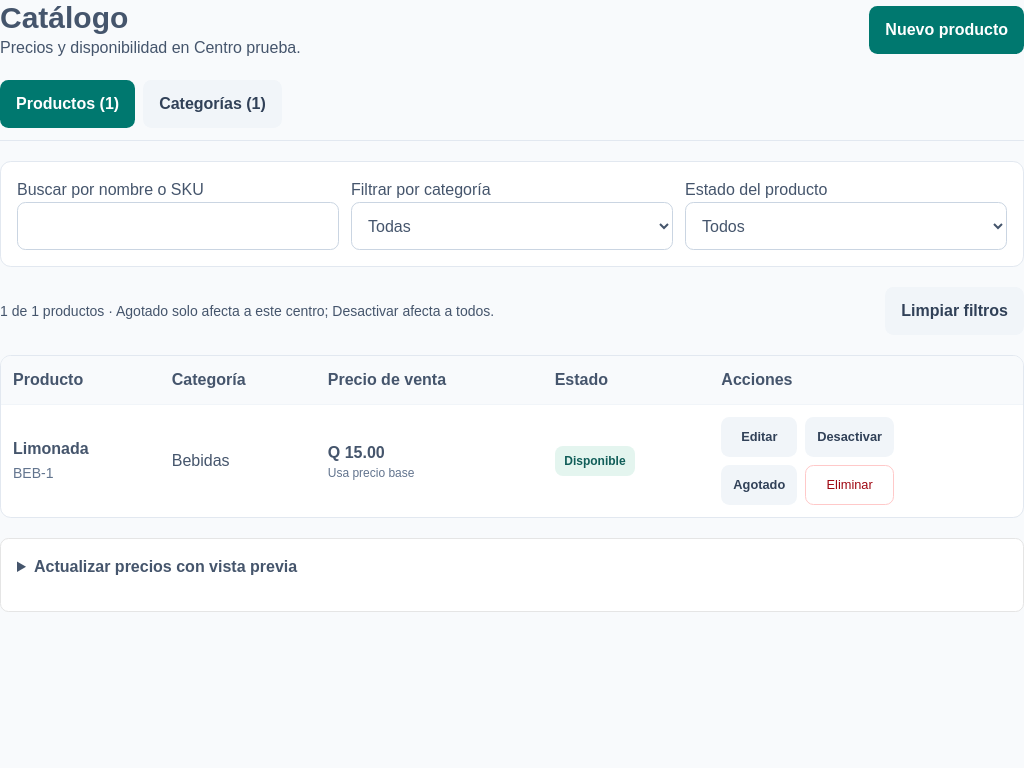
Catálogo ordenado y editable › abre un editor visible, guarda nombre/precio y mantiene los cambios del centro pendientes
The width and height of the screenshot is (1024, 768).
Click the button with aria-label "Editar producto Limonada".
click(759, 437)  # box [721,417,797,457]
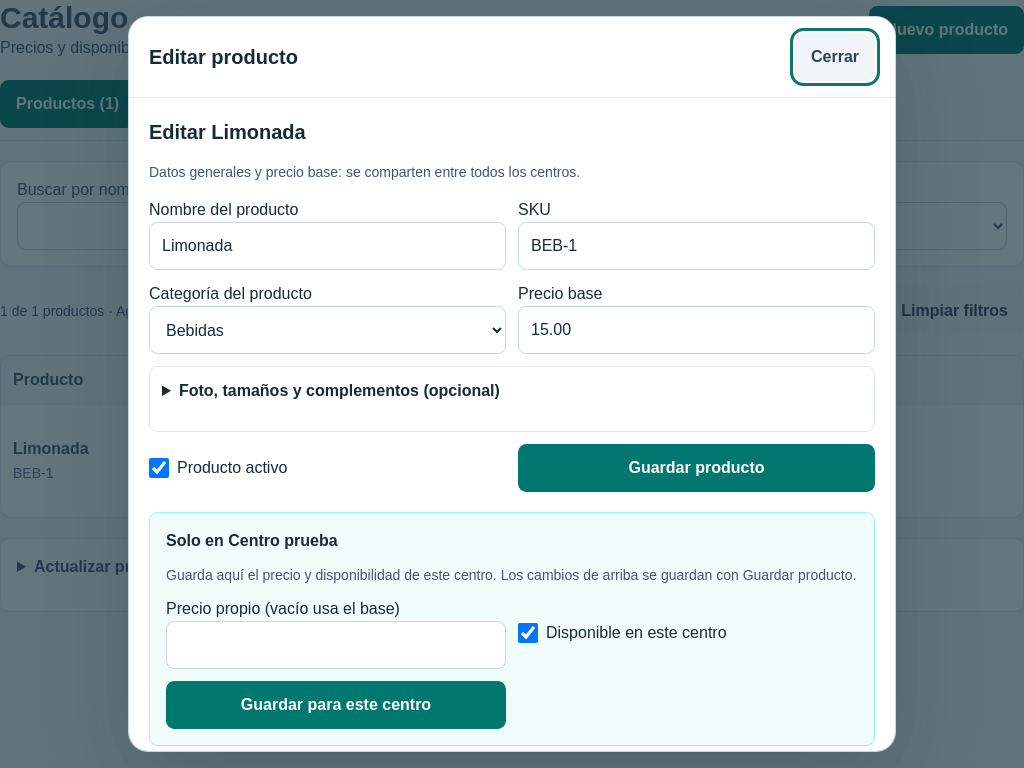
Replace the text in the field labelled "Nombre del producto" with "Limonada grande" at (328, 246), box [149,222,506,270]
Replace the text in the number field labelled "Precio base" with "18.50" at (696, 330), box [518,306,875,354]
Type "20" into the number field labelled "Precio propio (vacío usa el base)".
click(336, 645); type("20")  # box [166,621,506,669]
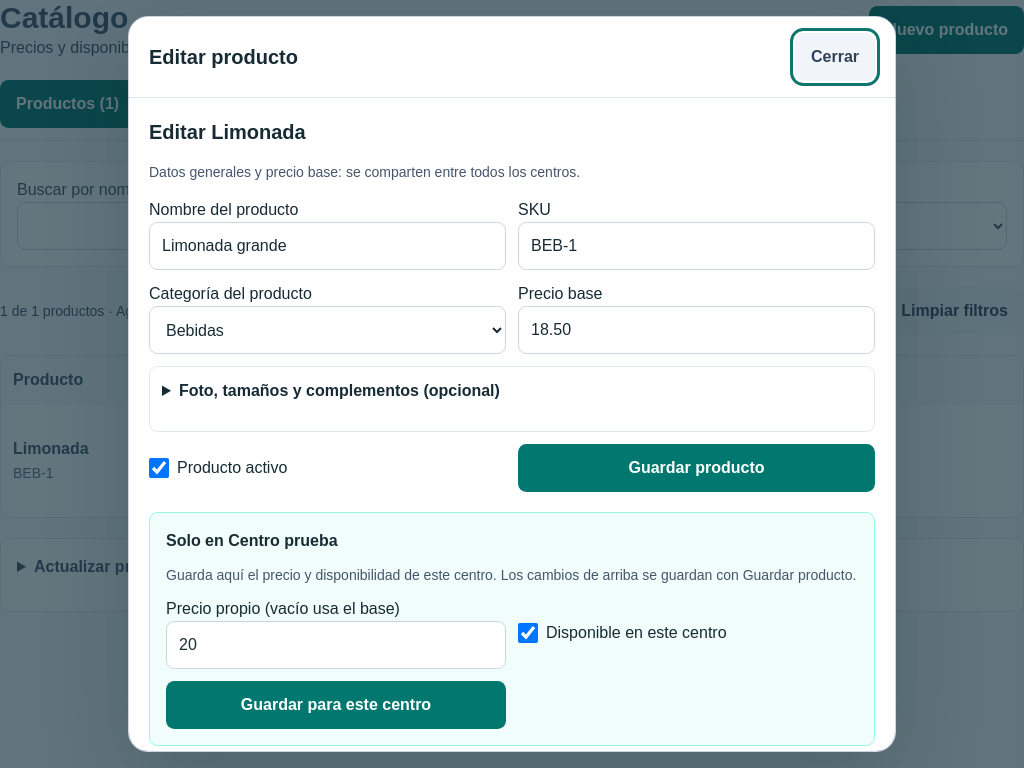
Click the button "Guardar producto".
click(696, 468)  # box [518,444,875,492]
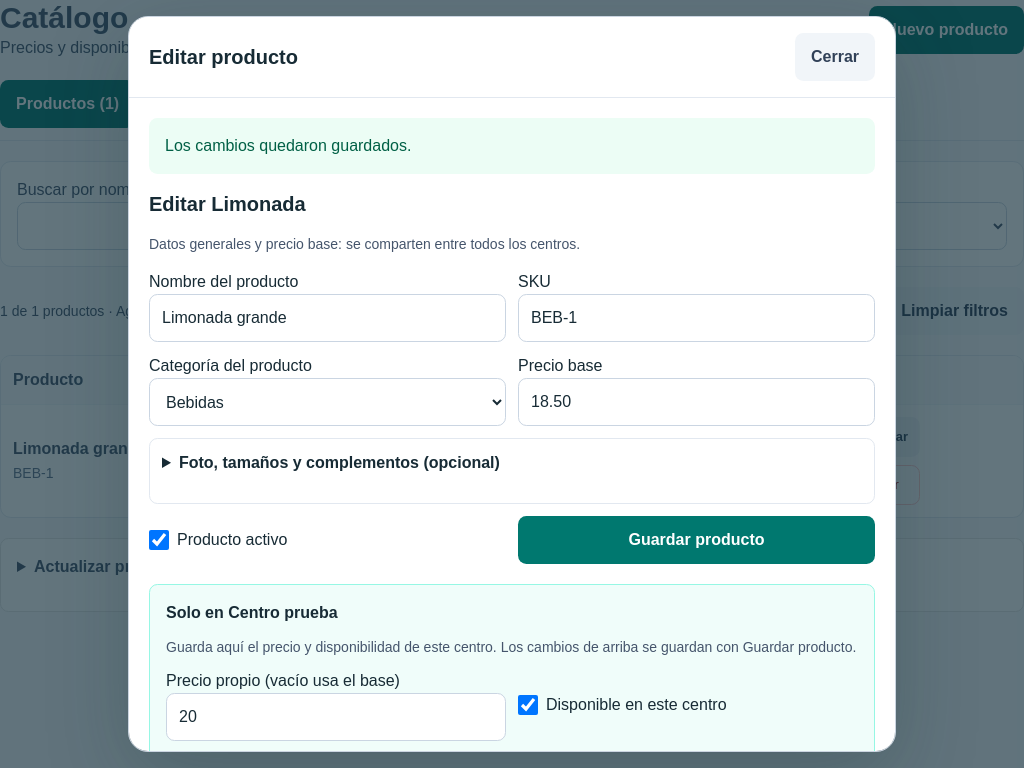
Result: the dialog is shown
Result: the text "Los cambios quedaron guardados." is shown at [149,118,875,174]
Result: the text "Limonada grande" is shown at [13,440,146,457]
Click the button "Cerrar".
click(835, 57)  # box [795,33,875,81]
(page scrolled)
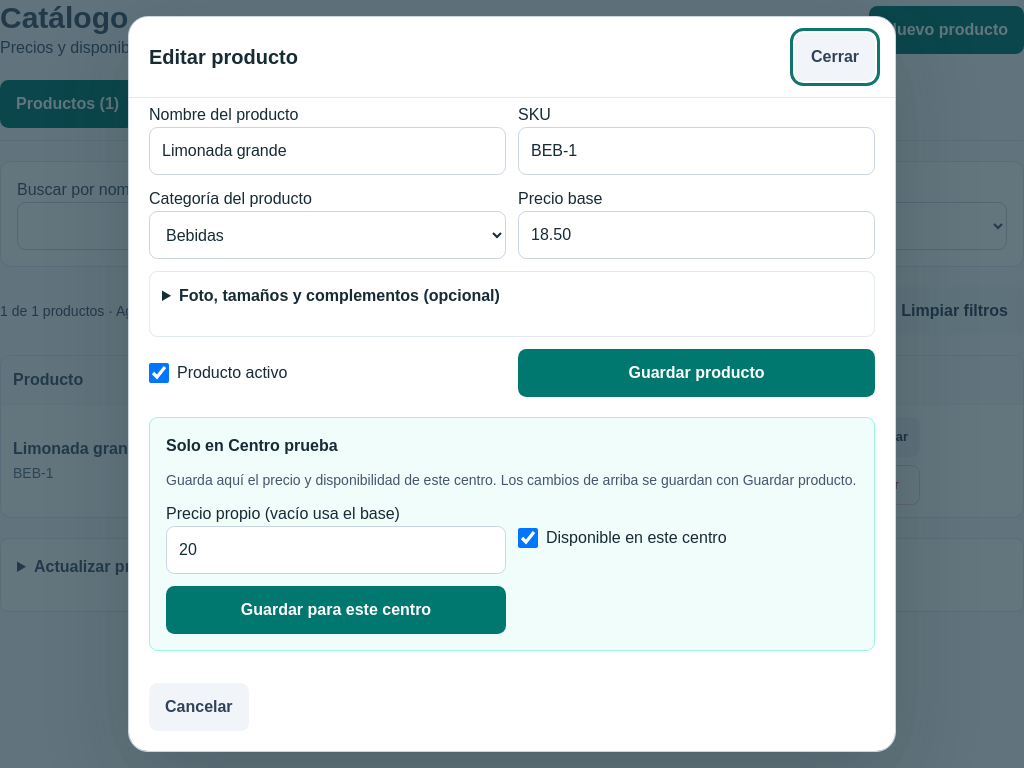
Result: the dialog is shown
Click the button "Guardar para este centro".
click(336, 610)  # box [166,586,506,634]
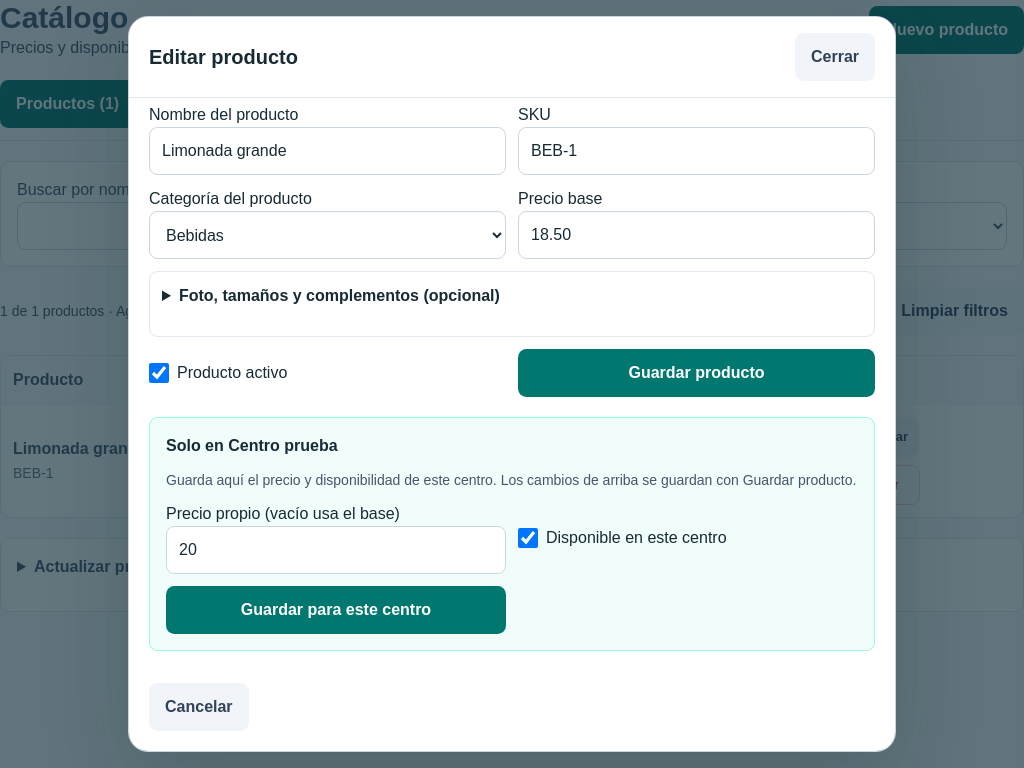
Click the button "Cerrar".
click(835, 57)  # box [795,33,875,81]
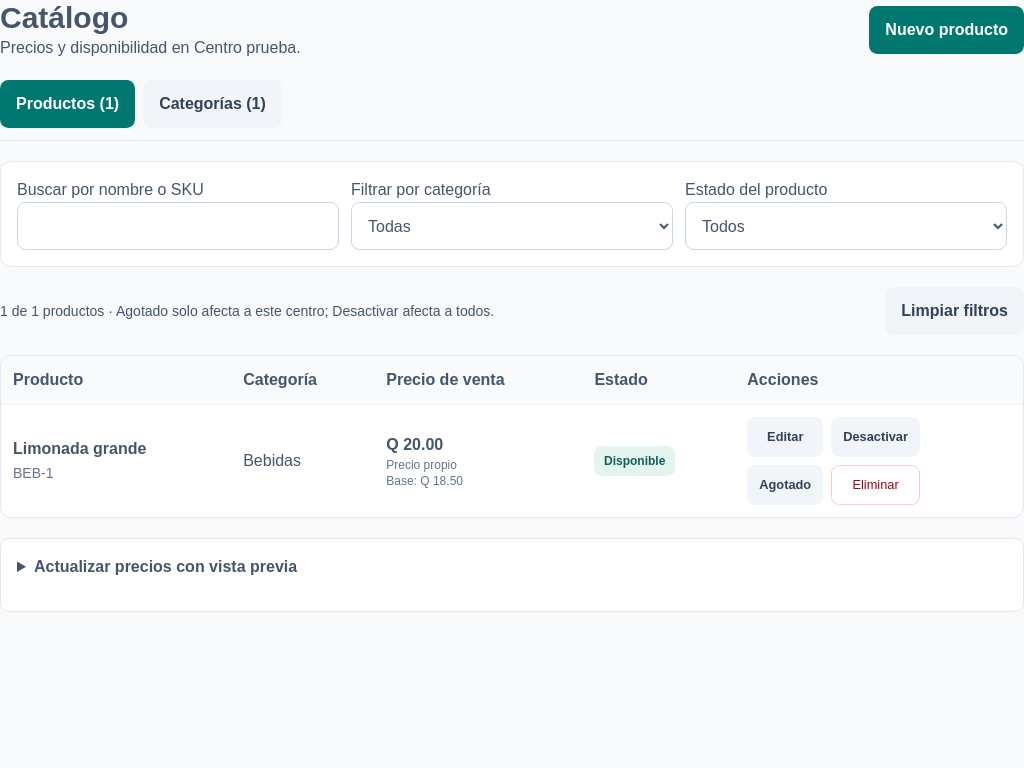
Result: the text "Q 20.00" is shown at [386,436,443,453]
Result: the dialog is gone
